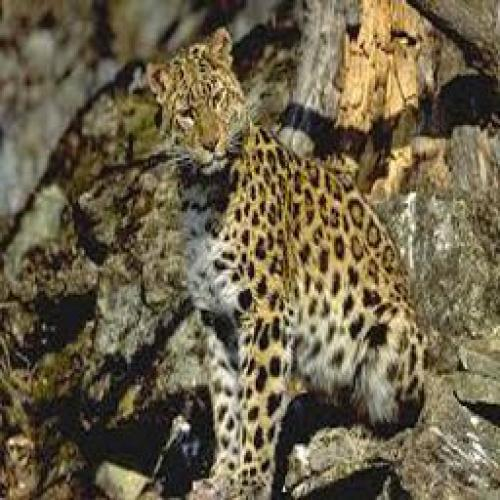amur_leopard-endangered: (144, 27, 428, 500)
